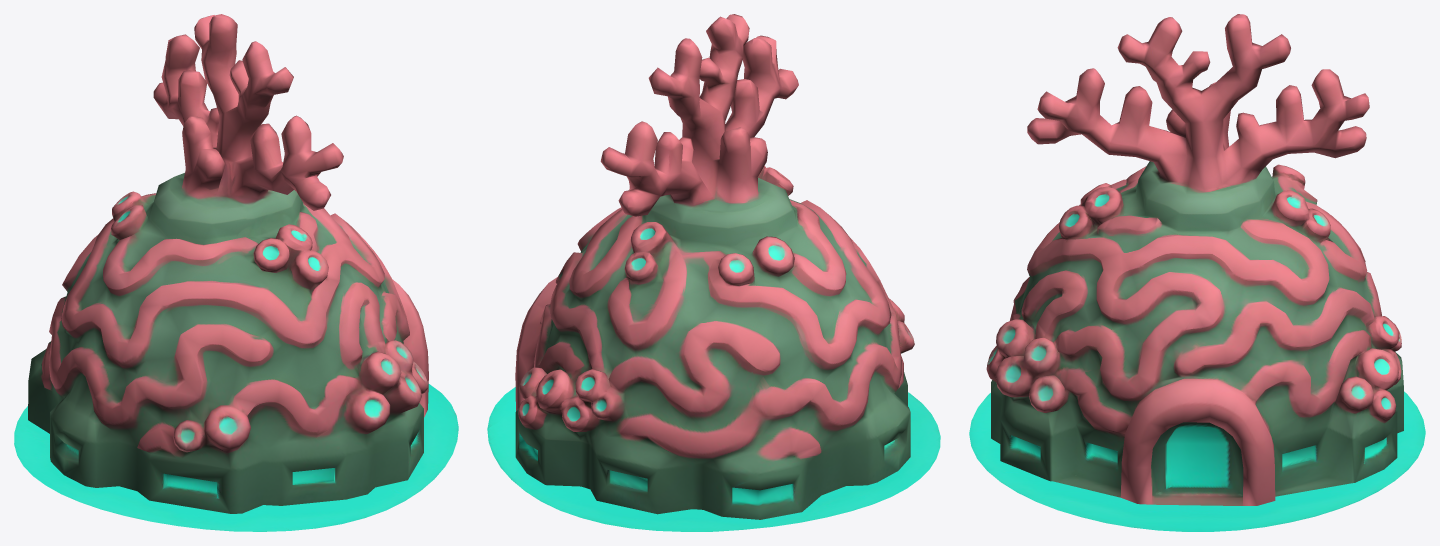
Rendered from water_shell_forge.glb.
3 views of the same model, side by side, from view 1: azimuth 30°, elevation 25°; view 2: azimuth 150°, elevation 25°; view 3: azimuth 270°, elevation 25° (orthographic). The views are drawn at different scales.
Parts seen in each view (by area): view 1: tripo_node_aca296bc-4f71-49c1-be90-7b3b9697f116; view 2: tripo_node_aca296bc-4f71-49c1-be90-7b3b9697f116; view 3: tripo_node_aca296bc-4f71-49c1-be90-7b3b9697f116.
Boxes of the visible parts, x1,y1,x2,y2 form: tripo_node_aca296bc-4f71-49c1-be90-7b3b9697f116: (14, 14, 458, 531); tripo_node_aca296bc-4f71-49c1-be90-7b3b9697f116: (487, 14, 940, 531); tripo_node_aca296bc-4f71-49c1-be90-7b3b9697f116: (969, 14, 1425, 531).
Size of the model in its own units: 0.9995 by 0.9907 by 0.9673.
Materials: 1 (1 with a texture image).
